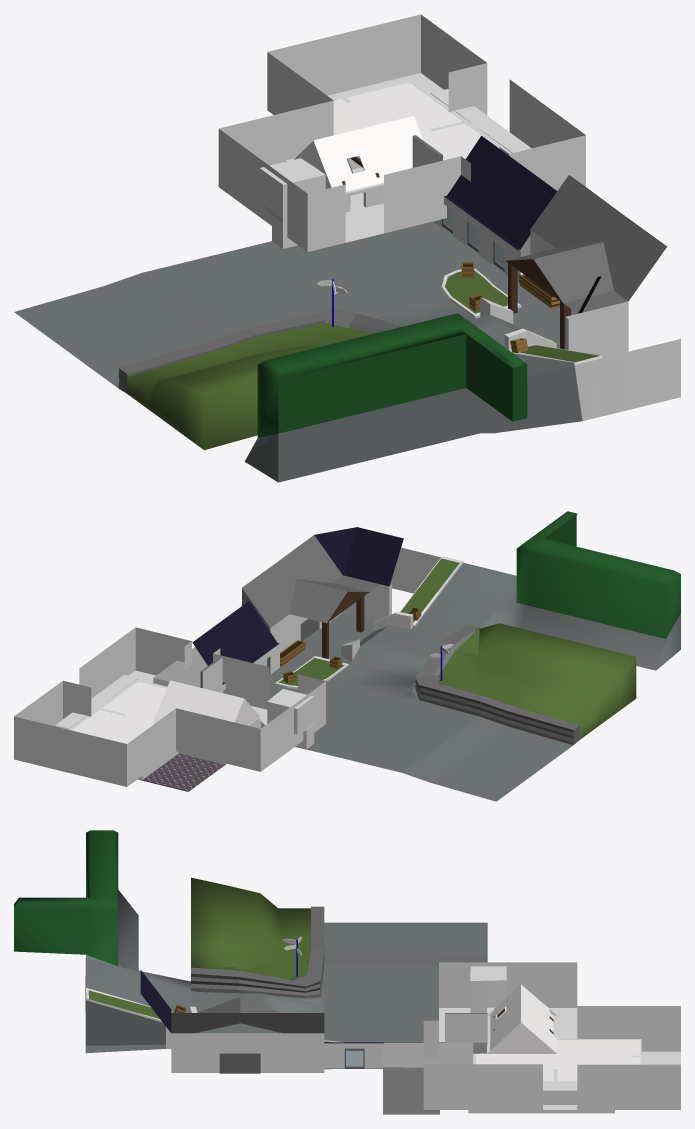
The model's file is MP_Ass2_Arcade.fbx.
3 renders of one model, top to bottom at view 1: azimuth 30°, elevation 25°; view 2: azimuth 150°, elevation 25°; view 3: azimuth 270°, elevation 25°, orthographic. The views are drawn at different scales.
Parts seen in each view (by area): view 1: Outside, Plane, Roof, Walls, Hallway, PlantPots; view 2: Outside, Plane, Roof, Walls, Floor, FrontDesk, Hallway, PlantPots; view 3: Outside, Plane, Roof, FrontDesk, Walls, Hallway.
Part boxes in pixels (x1,y1,x2,y2): Outside: (14, 135, 680, 482); Plane: (218, 14, 585, 251); Roof: (294, 82, 499, 191); Walls: (259, 81, 511, 248); Hallway: (430, 89, 531, 153); PlantPots: (461, 262, 559, 352); Outside: (192, 511, 680, 801); Plane: (14, 627, 325, 786); Roof: (72, 680, 259, 743); Walls: (69, 679, 314, 780); Floor: (142, 753, 226, 791); FrontDesk: (153, 647, 207, 687); Hallway: (55, 674, 138, 729); PlantPots: (280, 607, 421, 683); Outside: (14, 830, 487, 1073); Plane: (423, 962, 680, 1109); Roof: (476, 984, 640, 1081); FrontDesk: (383, 1042, 486, 1114); Walls: (470, 966, 641, 1082); Hallway: (468, 1082, 614, 1113).
Bounding box in the file's own units: 13812 × 3466 × 19280.
34 materials, 1 textured.
